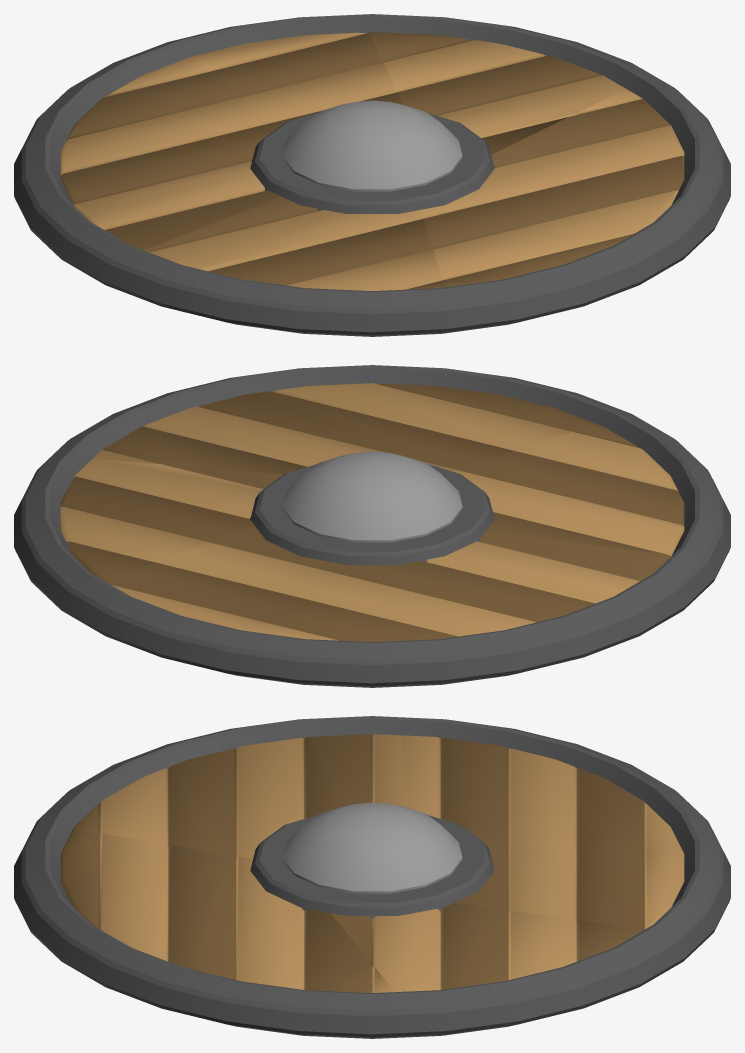
File: Entity_Shield-bkn.FBX
3 renders of one model, top to bottom at view 1: azimuth 30°, elevation 25°; view 2: azimuth 150°, elevation 25°; view 3: azimuth 270°, elevation 25°, orthographic.
Parts seen in each view (by area): view 1: Object003, Shield_Part_3, Shield_Part_1, Shield_Part_2, Object002, Shield_Part_4, Shield_Part_5; view 2: Object003, Shield_Part_3, Shield_Part_1, Object002, Shield_Part_2, Shield_Part_4, Shield_Part_5; view 3: Object003, Shield_Part_3, Shield_Part_1, Shield_Part_2, Object002, Shield_Part_4, Shield_Part_5.
Part boxes in pixels (x1,y1,x2,y2): Object003: (14,14,730,336); Shield_Part_3: (420,89,684,287); Shield_Part_1: (90,173,444,290); Shield_Part_2: (60,56,277,220); Object002: (250,100,494,213); Shield_Part_4: (369,32,625,154); Shield_Part_5: (193,32,403,127); Object003: (14,365,730,687); Shield_Part_3: (90,383,595,473); Shield_Part_1: (452,424,684,589); Object002: (250,451,494,564); Shield_Part_2: (247,552,624,641); Shield_Part_4: (60,458,283,581); Shield_Part_5: (106,525,348,630); Object003: (14,716,730,1038); Shield_Part_3: (60,829,394,992); Shield_Part_1: (72,734,409,859); Shield_Part_2: (400,735,684,854); Object002: (250,802,494,918); Shield_Part_4: (331,903,642,991); Shield_Part_5: (455,848,684,930).
Size of the model in its own units: 237 by 54.75 by 236.
